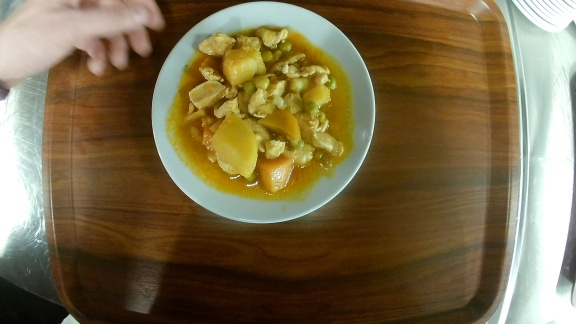bezelyelitavuk: (150, 1, 377, 224)
